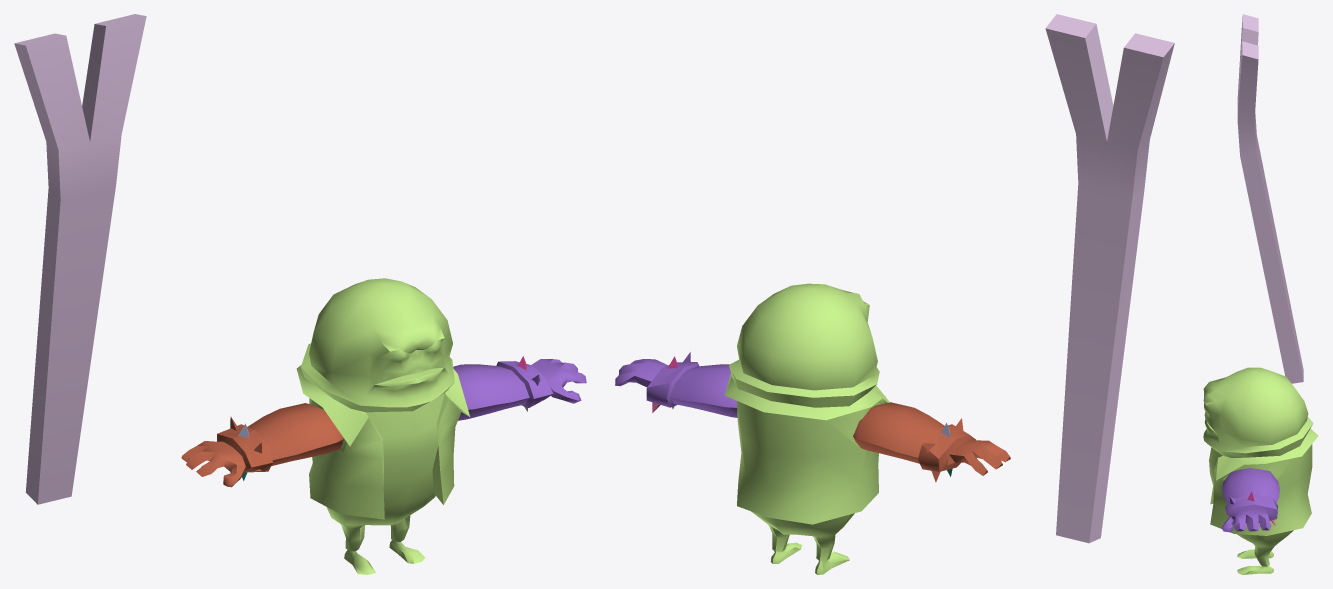
3 renders of one model, left to right at view 1: azimuth 30°, elevation 25°; view 2: azimuth 150°, elevation 25°; view 3: azimuth 270°, elevation 25°, orthographic. The views are drawn at different scales.
Visible parts, largest first — view 1: node_id3_Material_49_0.005, node_id3_Material_49_0, split_parent_1, split_parent_3; view 2: node_id3_Material_49_0, node_id3_Material_49_0.005, split_parent_1, split_parent_3; view 3: node_id3_Material_49_0.005, node_id3_Material_49_0, split_parent_3.
Part boxes in pixels (x1=…): node_id3_Material_49_0.005: x1=296, y1=278, x2=469, y2=574; node_id3_Material_49_0: x1=14, y1=14, x2=146, y2=504; split_parent_1: x1=181, y1=403, x2=344, y2=487; split_parent_3: x1=453, y1=359, x2=586, y2=420; node_id3_Material_49_0: x1=1045, y1=14, x2=1174, y2=543; node_id3_Material_49_0.005: x1=724, y1=283, x2=889, y2=574; split_parent_1: x1=853, y1=402, x2=1010, y2=482; split_parent_3: x1=615, y1=352, x2=737, y2=417; node_id3_Material_49_0.005: x1=1203, y1=367, x2=1318, y2=574; node_id3_Material_49_0: x1=1237, y1=14, x2=1303, y2=383; split_parent_3: x1=1221, y1=468, x2=1279, y2=532.
Size of the model in its own units: 0.9593 by 1 by 0.2455.
